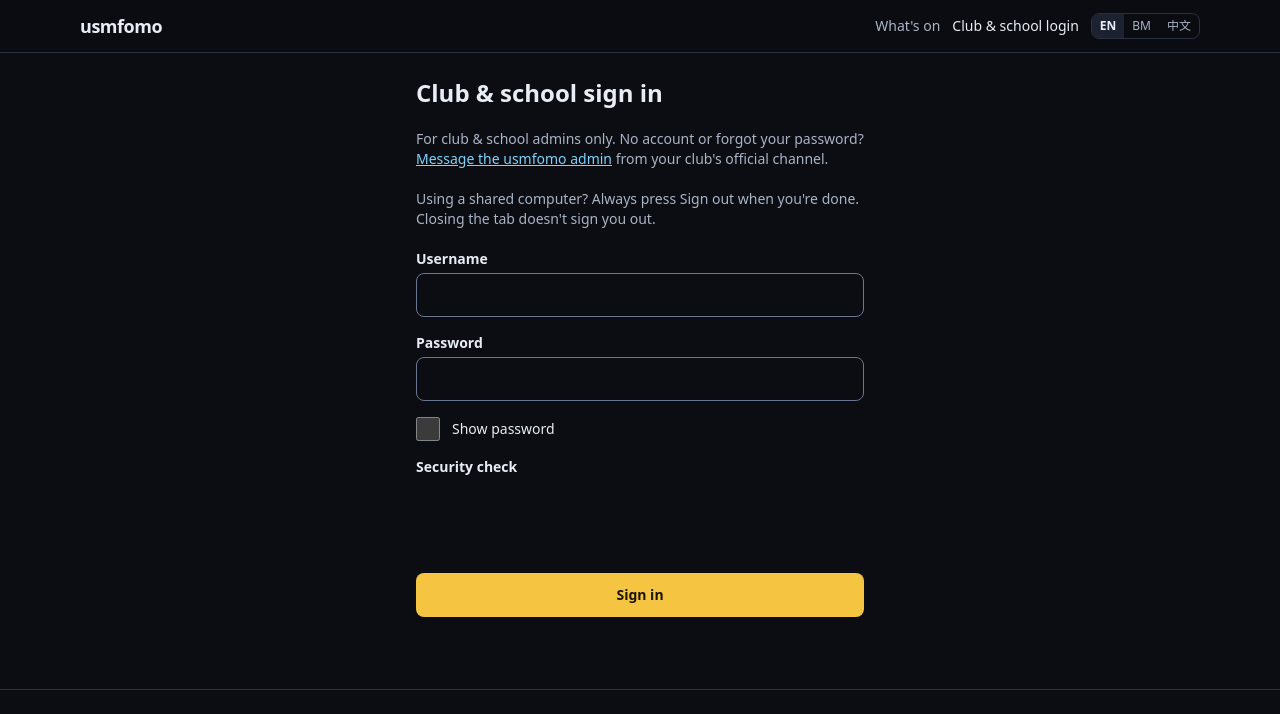
Test case: LoginPage › asks for the security check before signing in
Step 1. Type "robotik" into the field labelled "Username" → (640, 295), box [416,273,864,317]
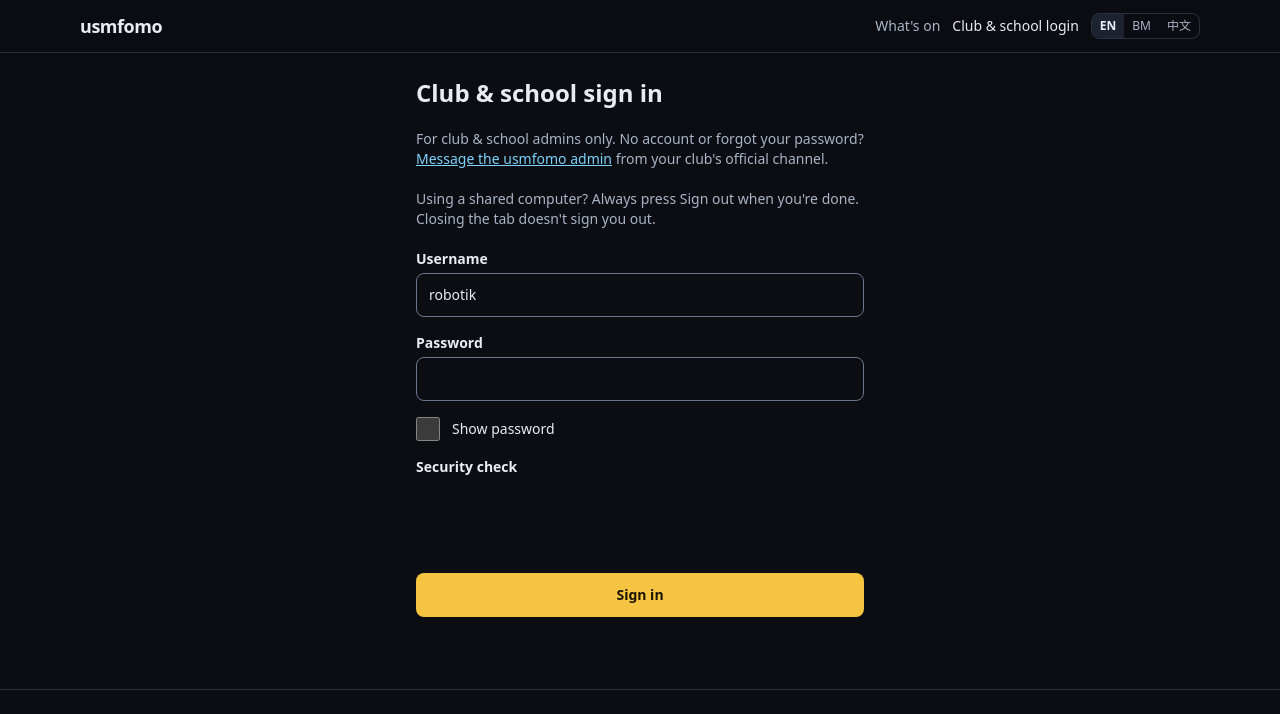
Step 2. Type "correct horse" into the password field labelled "Password" → (640, 379), box [416,357,864,401]
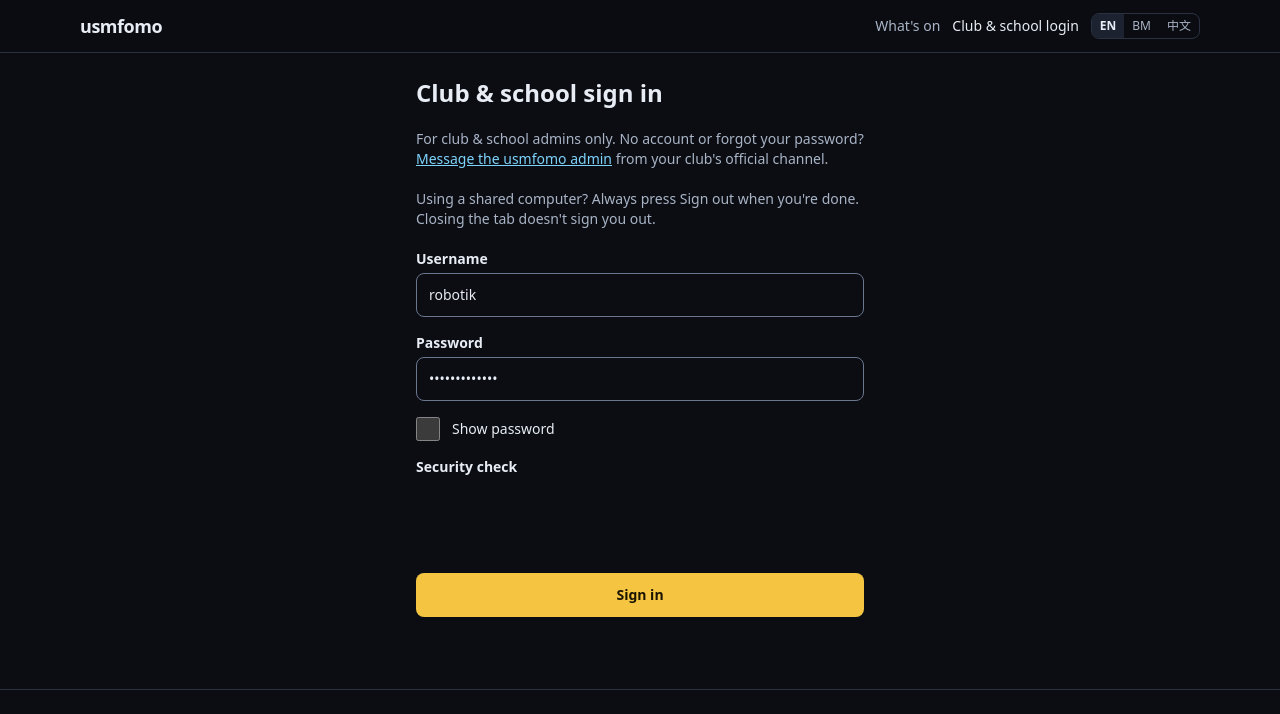
Step 3. Click the button "Sign in" → (640, 595), box [416,573,864,617]
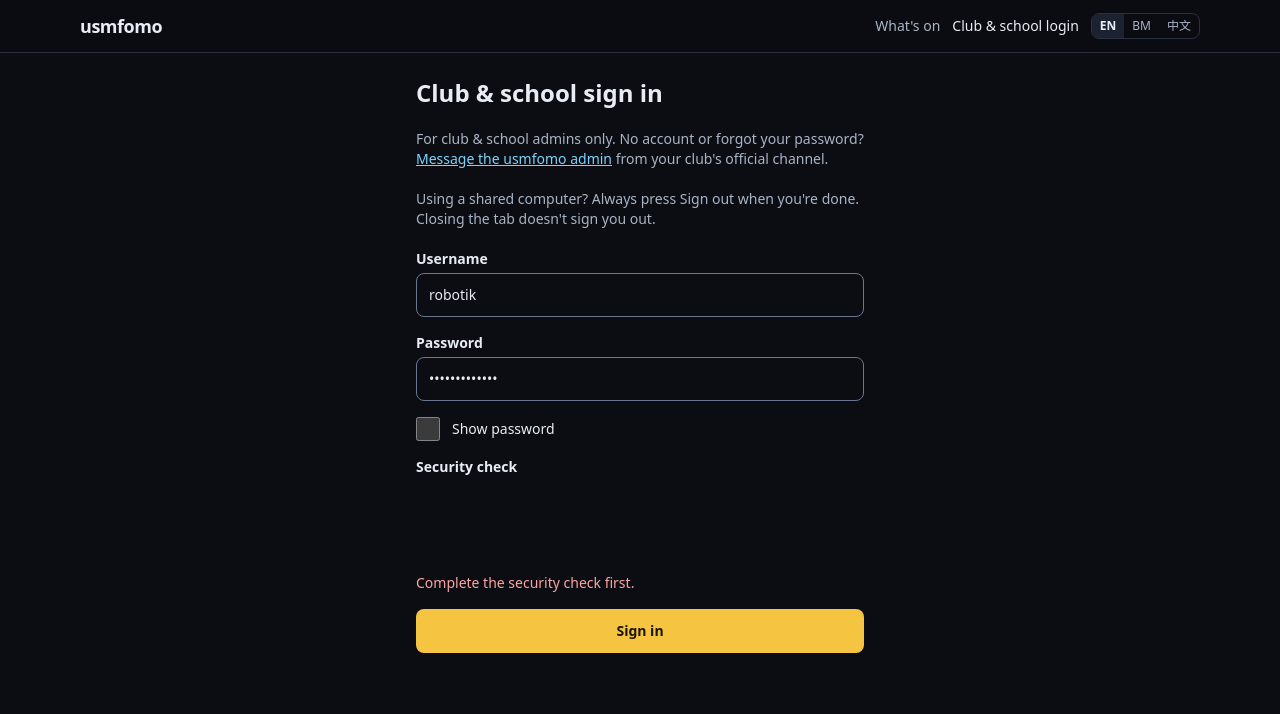
Check: the message reads "Complete the security check first.", box [416,573,634,592]
